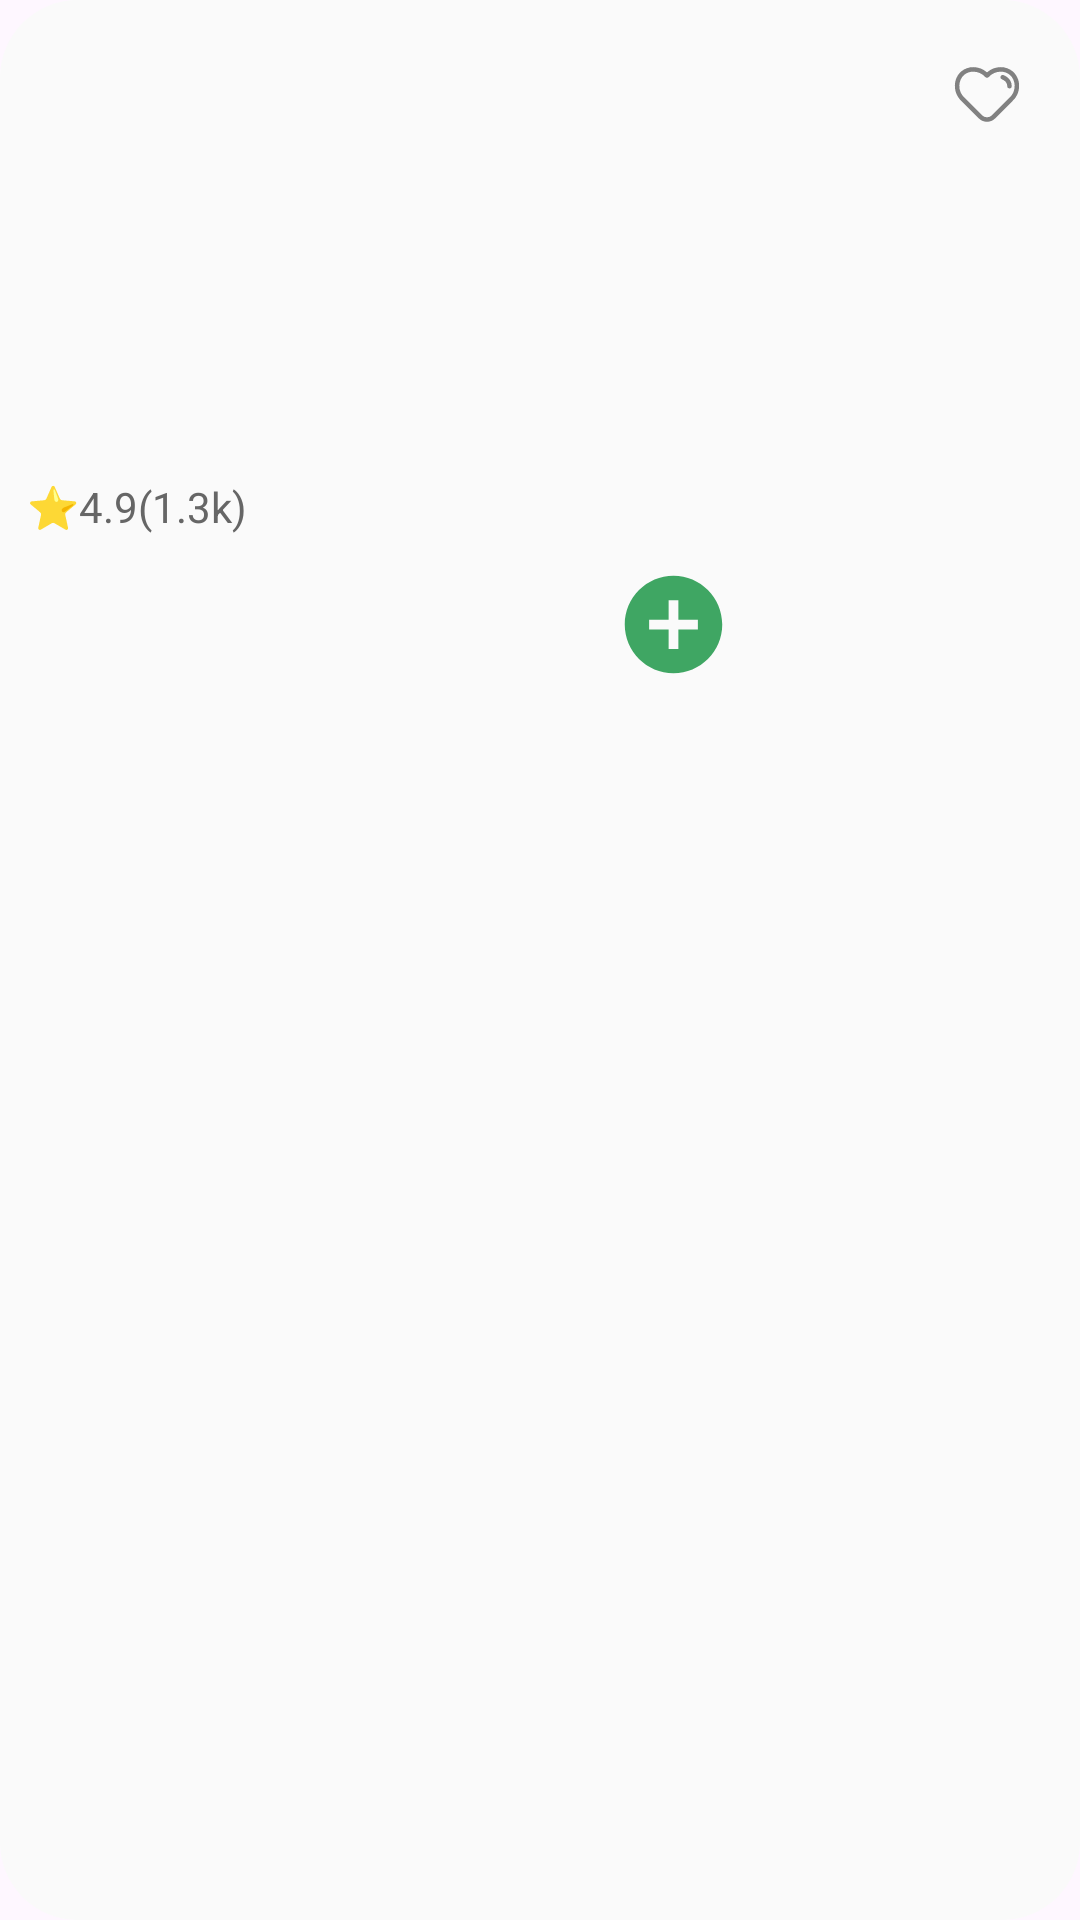

Locate icon controls on the screen. Image size 1080px×1920px, boxes as (x1, y1, x2, y2).
add circle: (624, 575, 723, 674)
favorite border: (955, 67, 1019, 122)
